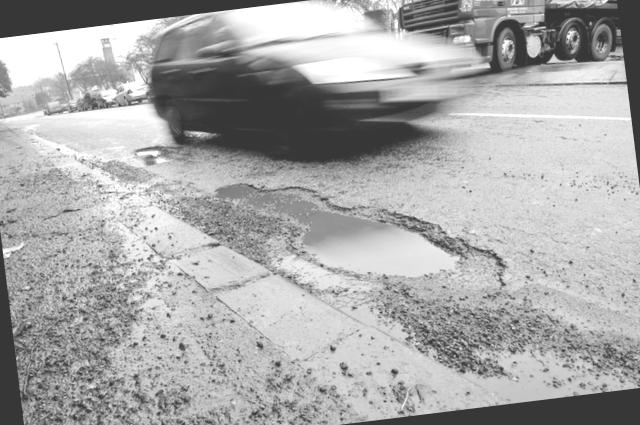Pothole: (207, 132, 504, 346), (122, 120, 183, 184)
